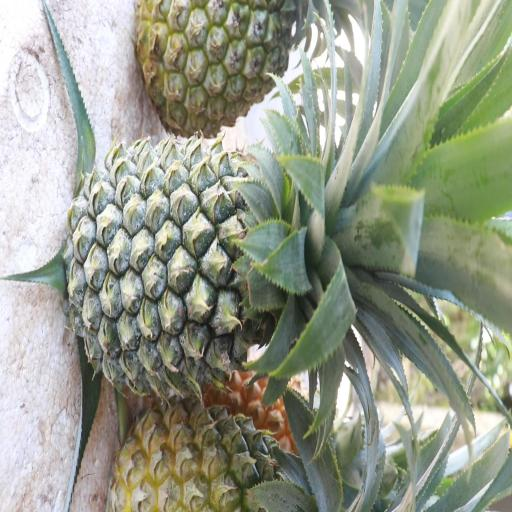------------------------------: (136, 0, 321, 134), (114, 395, 308, 512)
